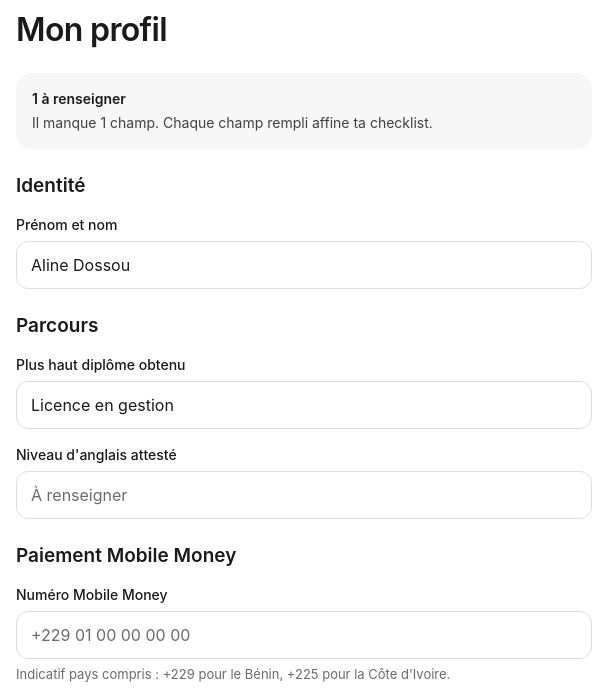
C-02 — Profil › met le décompte à jour à la frappe, dans une région vivante
The width and height of the screenshot is (609, 699).
Expected: the text "Il manque 1 champ" is shown, [32,114,433,131]
Type "B2" into the field labelled "Niveau d'anglais attesté".
click(304, 495); type("B2")  # box [16,471,592,519]
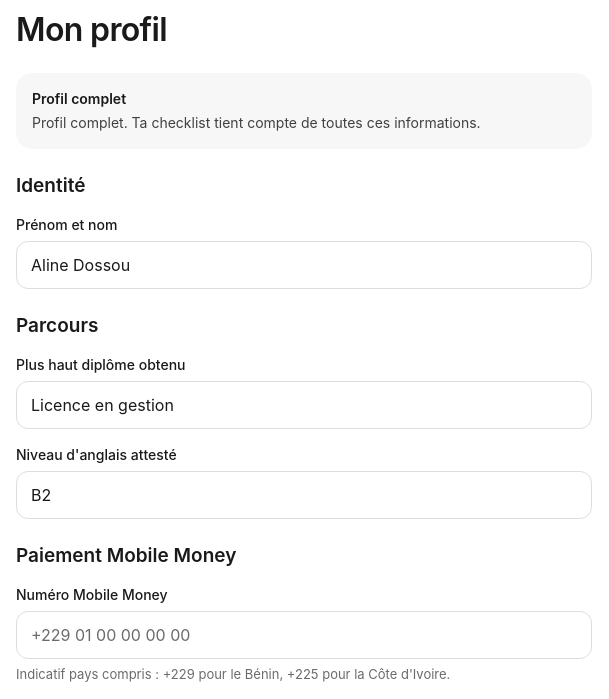
Result: the text "Profil complet. Ta checklist tient compte de toutes ces informations." is shown at [32,114,481,131]
